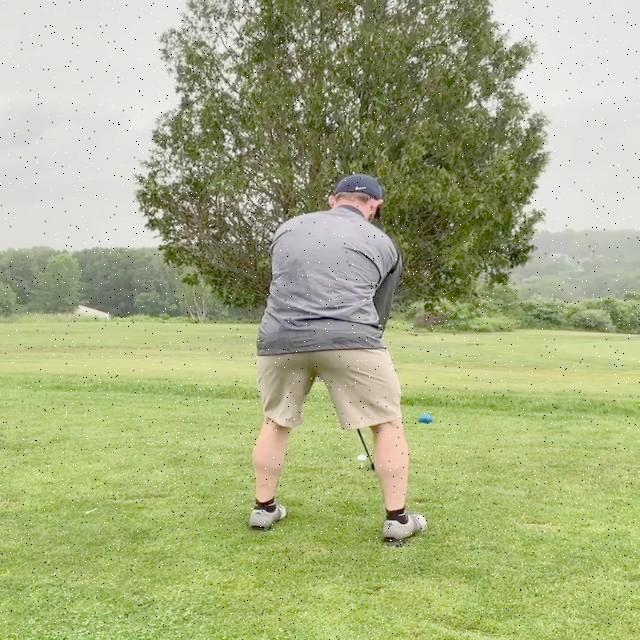GolfBall: (356, 454, 368, 463)
